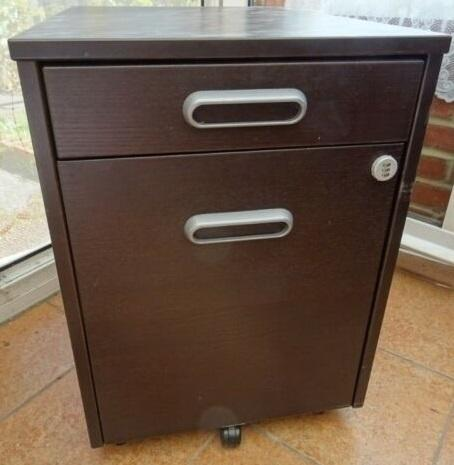cabinet_door: (75, 158, 381, 432), (40, 66, 415, 157)
handle: (180, 88, 312, 135), (182, 204, 299, 255)
